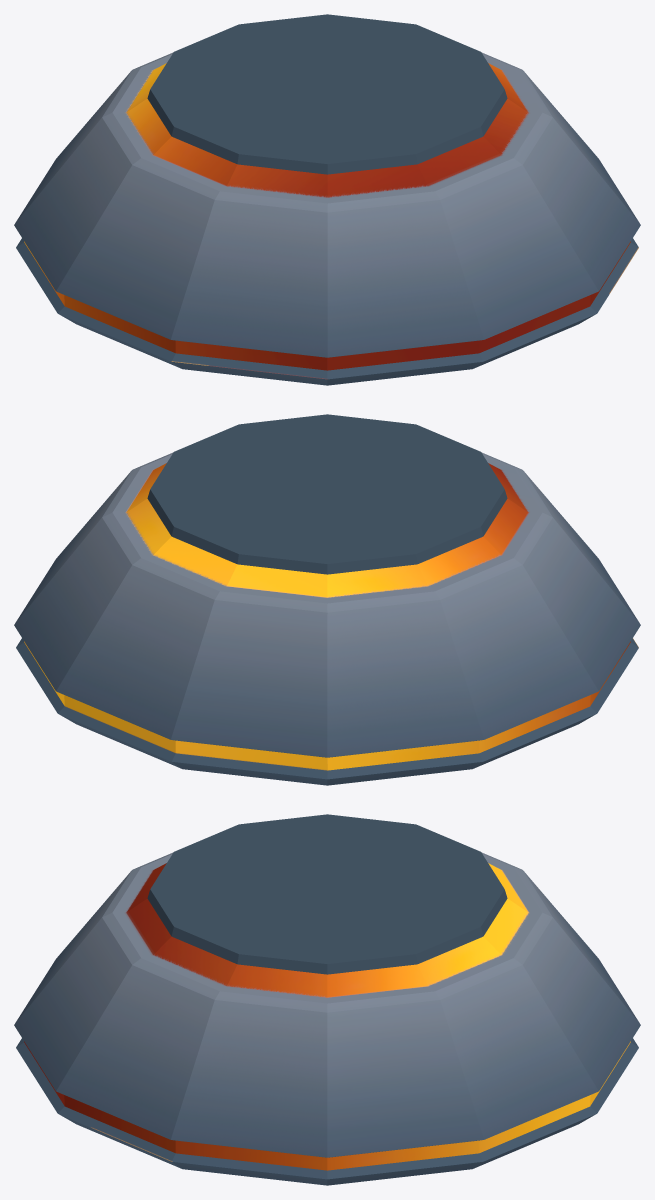
Rendered from SM_APP_Alien_blockH.glb.
3 views of the same model, one above another, from view 1: azimuth 30°, elevation 25°; view 2: azimuth 150°, elevation 25°; view 3: azimuth 270°, elevation 25° (orthographic).
Visible parts, largest first — view 1: SM_APP_Alien_blockH; view 2: SM_APP_Alien_blockH; view 3: SM_APP_Alien_blockH.
Part boxes in pixels (box(x1,y1,x2,y2)): SM_APP_Alien_blockH: box(14, 14, 640, 385); SM_APP_Alien_blockH: box(14, 414, 640, 785); SM_APP_Alien_blockH: box(14, 814, 640, 1185).
Size of the model in its own units: 10.54 by 3.22 by 10.54.
Materials: 1 (1 with a texture image).
